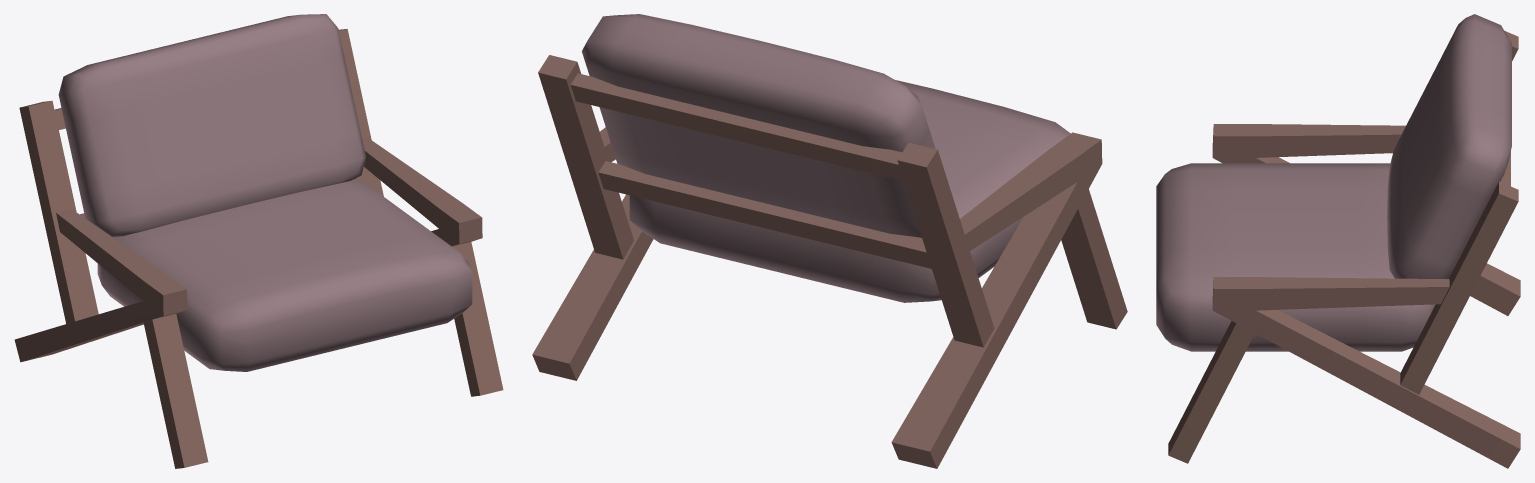
3 renders of one model, left to right at view 1: azimuth 30°, elevation 25°; view 2: azimuth 150°, elevation 25°; view 3: azimuth 270°, elevation 25°, orthographic. The views are drawn at different scales.
Visible parts, largest first — view 1: Cube 63, Cube 60, Merged Geometry; view 2: Merged Geometry, Cube 63, Cube 60; view 3: Cube 60, Merged Geometry, Cube 63.
Boxes of the visible parts, box(x1,y1,x2,y2) form: Cube 63: box(58, 14, 365, 236); Cube 60: box(97, 179, 472, 371); Merged Geometry: box(14, 28, 503, 468); Merged Geometry: box(532, 55, 1127, 468); Cube 63: box(582, 14, 935, 237); Cube 60: box(629, 80, 1070, 302); Cube 60: box(1156, 163, 1435, 351); Merged Geometry: box(1168, 31, 1520, 468); Cube 63: box(1387, 14, 1511, 278).
Bounding box in the file's own units: 0.867 × 0.7474 × 0.7898.
